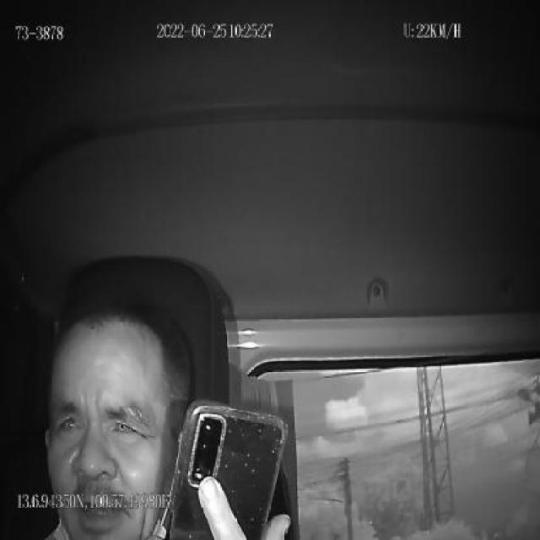phone: (169, 400, 289, 540)
